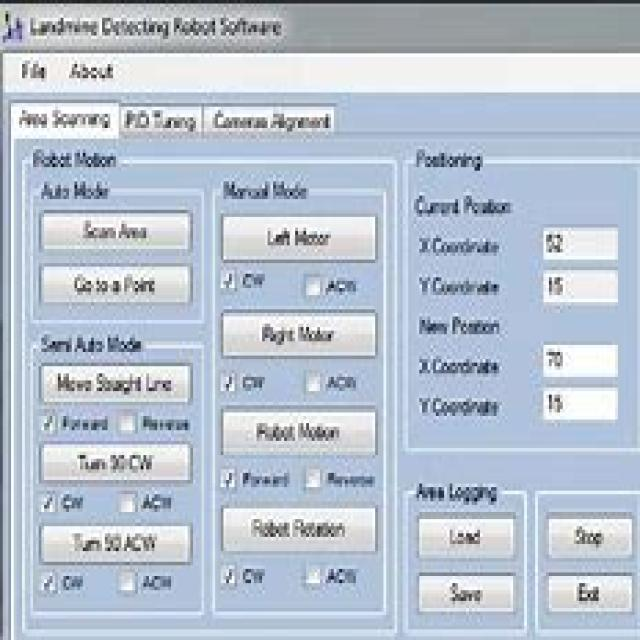button: (221, 500, 379, 556), (220, 403, 379, 458), (221, 307, 380, 359), (221, 212, 379, 264), (39, 360, 195, 408), (39, 440, 195, 488), (38, 207, 194, 254), (38, 262, 195, 307), (38, 522, 195, 567), (416, 510, 520, 563), (416, 569, 520, 616), (544, 509, 636, 562), (546, 571, 634, 614), (7, 52, 50, 90), (66, 58, 121, 86)
checkbox: (116, 567, 139, 598), (37, 567, 59, 597), (301, 271, 323, 300), (218, 561, 240, 589), (302, 368, 323, 397), (219, 463, 238, 494), (117, 410, 139, 436), (302, 464, 322, 492), (38, 488, 58, 516), (303, 564, 323, 592), (117, 490, 138, 516), (38, 411, 58, 436), (220, 266, 237, 293), (220, 370, 237, 396)
icon: (1, 6, 27, 49)
input: (541, 385, 623, 426), (542, 223, 622, 265), (542, 268, 618, 308), (542, 342, 618, 379)
label: (31, 11, 288, 44), (417, 348, 504, 380), (412, 192, 516, 218), (416, 232, 501, 262), (416, 272, 505, 300), (39, 330, 142, 353), (416, 314, 503, 341), (221, 177, 308, 202), (416, 395, 503, 420), (30, 148, 116, 172), (416, 145, 484, 172), (42, 180, 109, 202), (241, 464, 292, 492), (60, 411, 110, 434), (326, 471, 378, 492), (142, 412, 191, 434), (325, 368, 358, 394), (326, 273, 359, 298), (326, 566, 359, 589), (140, 572, 174, 594), (242, 562, 268, 589), (143, 494, 174, 516), (61, 491, 86, 514), (241, 268, 267, 290), (242, 371, 266, 394), (61, 569, 83, 594)
tabControl: (7, 97, 350, 144)
